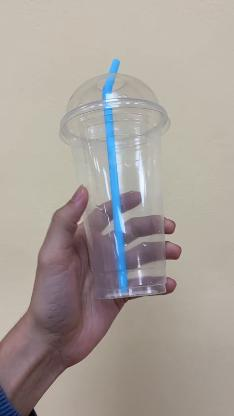Plastic Cup: (58, 69, 168, 298)
